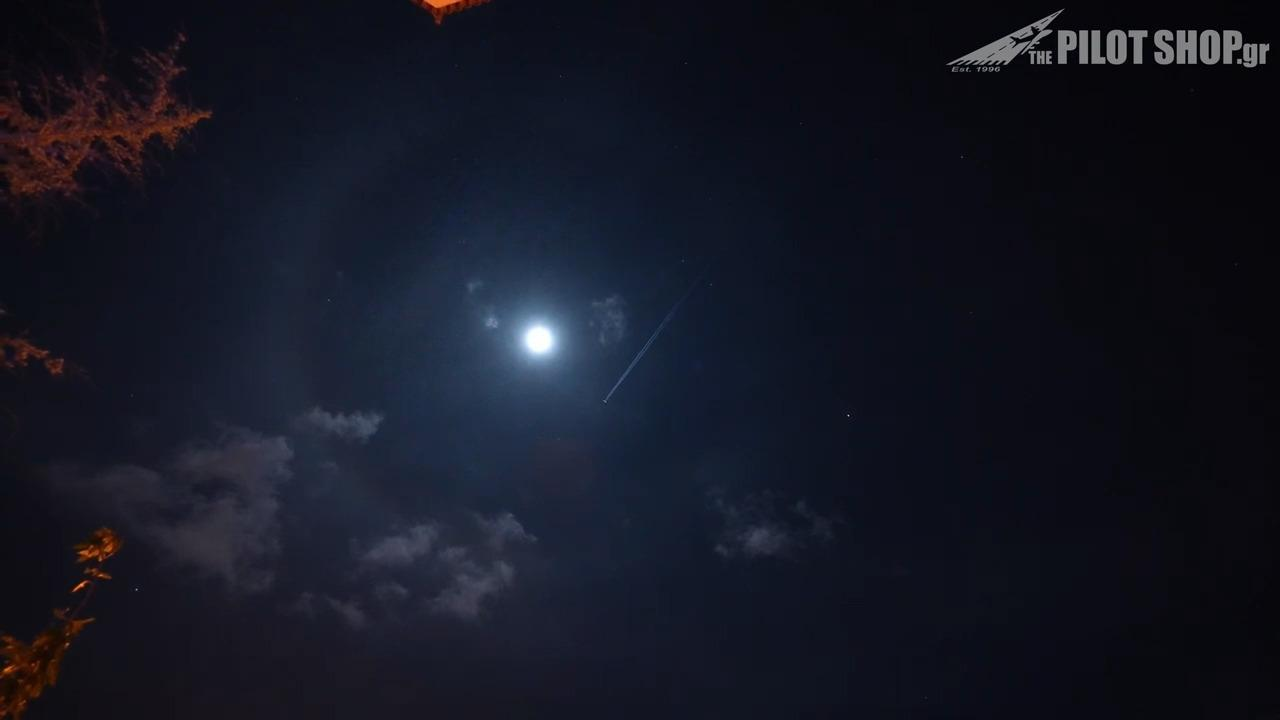Plane: (569, 287, 728, 418)
